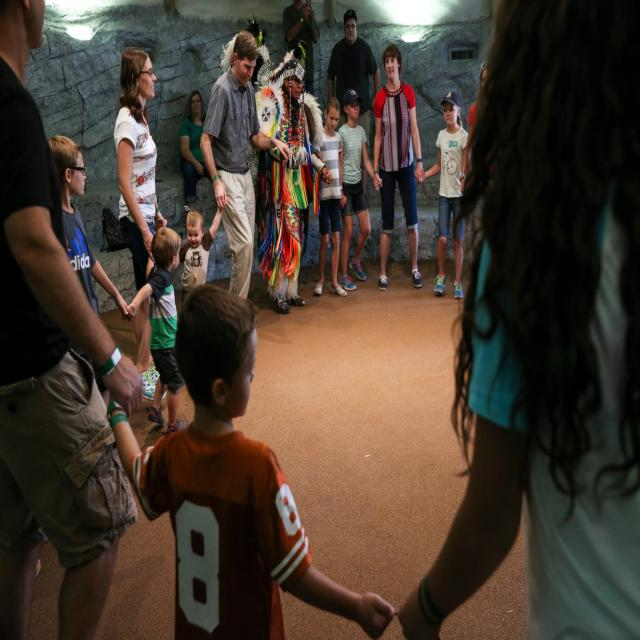body: (388, 0, 639, 639), (98, 276, 403, 640), (0, 0, 147, 639), (199, 29, 292, 300), (250, 36, 334, 316), (46, 134, 136, 330), (372, 42, 426, 291), (114, 46, 168, 294), (126, 226, 189, 435), (412, 90, 472, 300), (325, 7, 382, 185), (335, 85, 383, 292), (313, 95, 348, 298), (459, 60, 496, 197), (177, 208, 225, 306), (178, 88, 212, 216), (282, 0, 319, 98)
